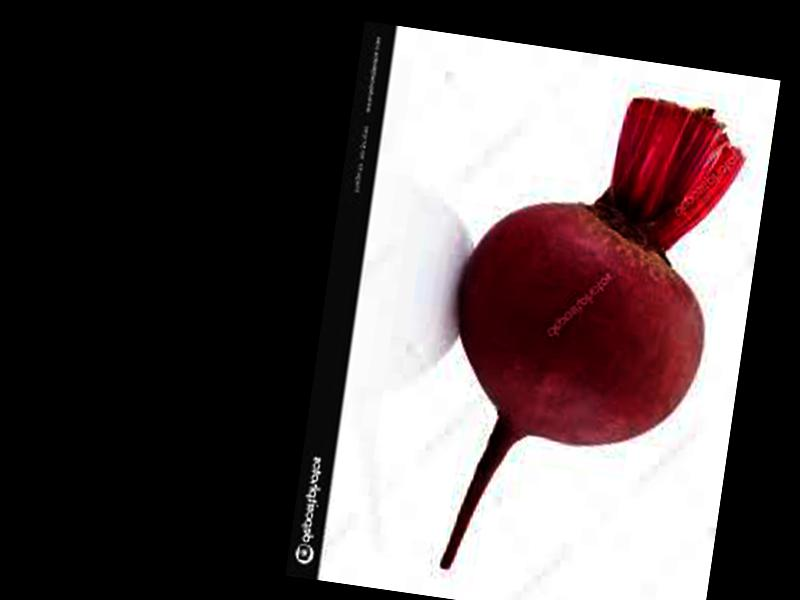Beet: (420, 75, 748, 600)
